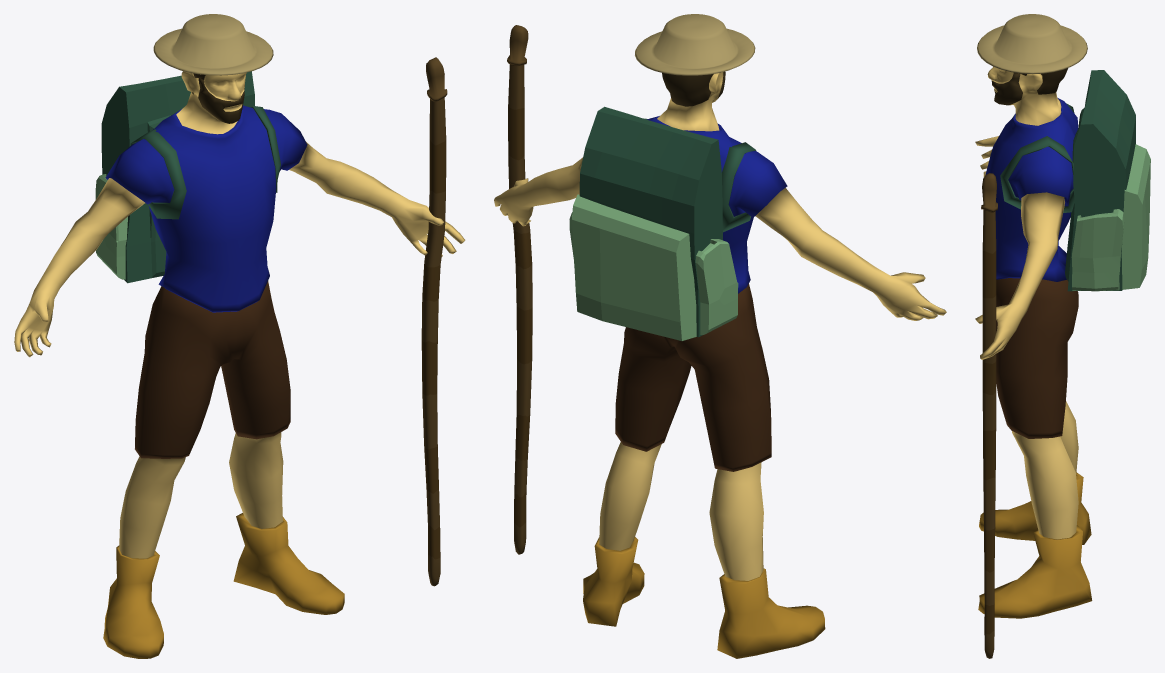
The model's file is hiker.gltf.
3 views of the same model, side by side, from view 1: azimuth 30°, elevation 25°; view 2: azimuth 150°, elevation 25°; view 3: azimuth 270°, elevation 25° (orthographic). The views are drawn at different scales.
Visible parts, largest first — view 1: Cube, polySurface13, Cube.002, Cube.003, Circle; view 2: Cube, polySurface13, Cube.002, Cube.003, Circle; view 3: Cube, polySurface13, Cube.002, Cube.003, Circle.
Part boxes in pixels (left/top/right/bottom): Cube: left=14, top=71, right=465, bottom=558; polySurface13: left=95, top=71, right=280, bottom=283; Cube.002: left=103, top=513, right=344, bottom=658; Cube.003: left=421, top=57, right=447, bottom=586; Circle: left=153, top=14, right=273, bottom=75; Cube: left=494, top=71, right=946, bottom=580; polySurface13: left=569, top=106, right=756, bottom=340; Cube.002: left=583, top=537, right=825, bottom=658; Cube.003: left=507, top=25, right=532, bottom=554; Circle: left=635, top=14, right=755, bottom=75; Cube: left=975, top=66, right=1078, bottom=539; polySurface13: left=1000, top=70, right=1150, bottom=291; Cube.002: left=978, top=472, right=1092, bottom=618; Cube.003: left=981, top=173, right=997, bottom=658; Circle: left=977, top=14, right=1087, bottom=73.
Size of the model in its own units: 18.25 by 22.98 by 6.71.
